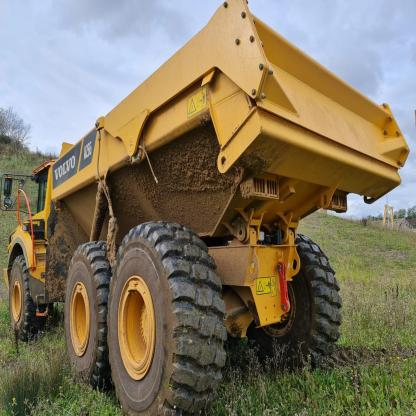dump_truck: (5, 5, 406, 416)
